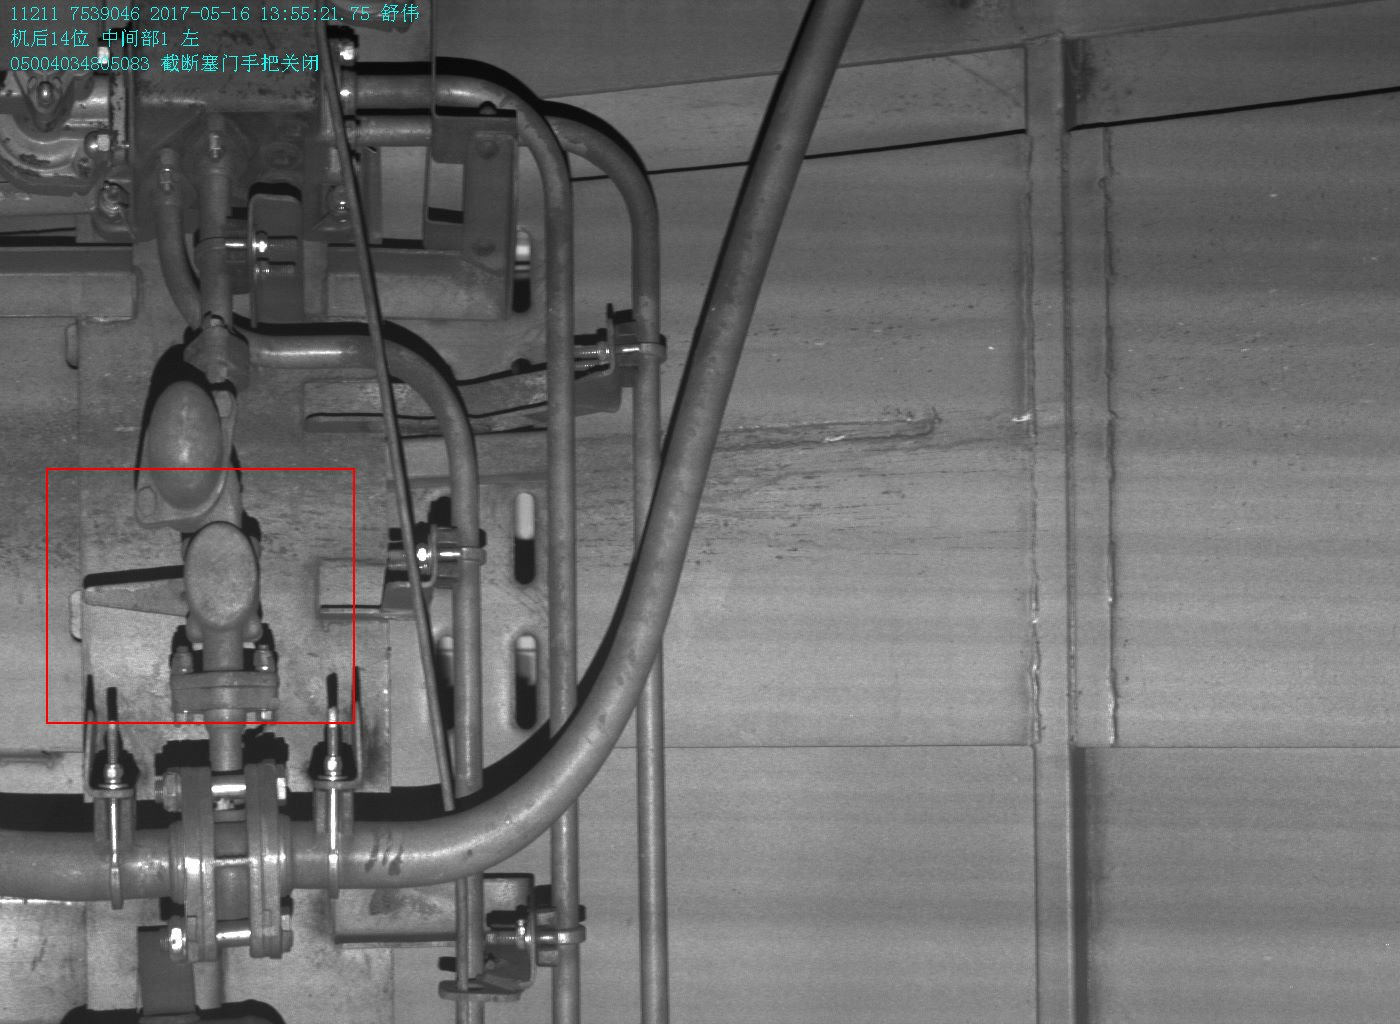truncated plug door handle: (79, 520, 265, 638)
